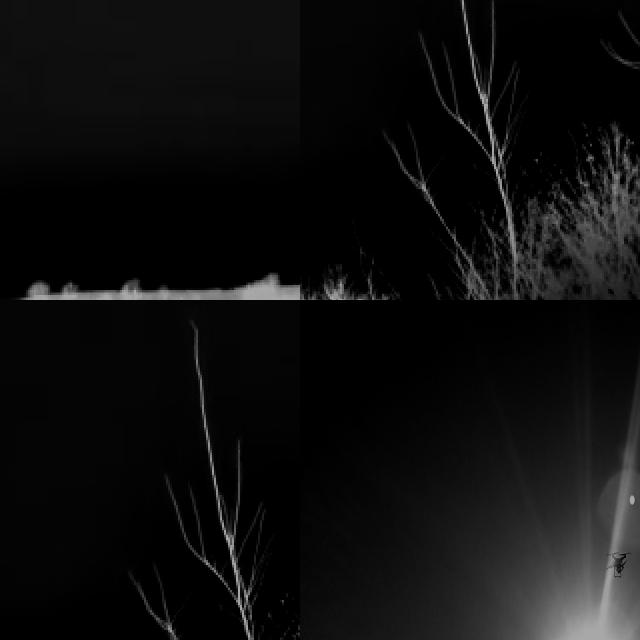drone: (606, 547, 634, 580)
